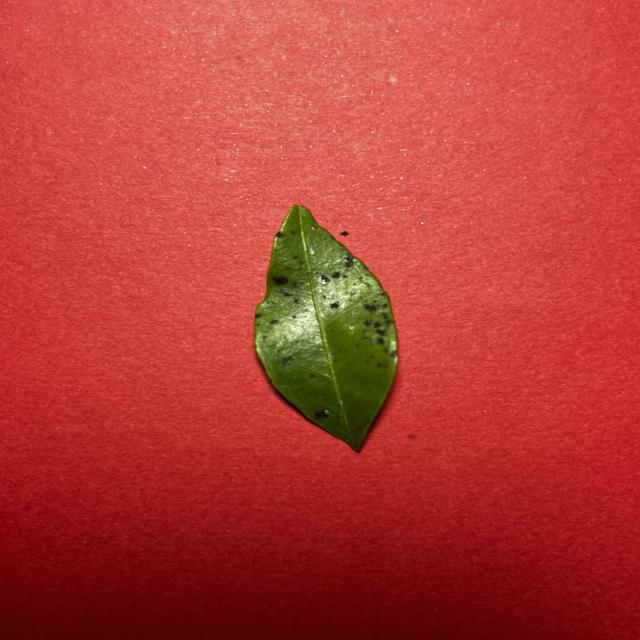sooty_mold: (255, 206, 398, 450)
